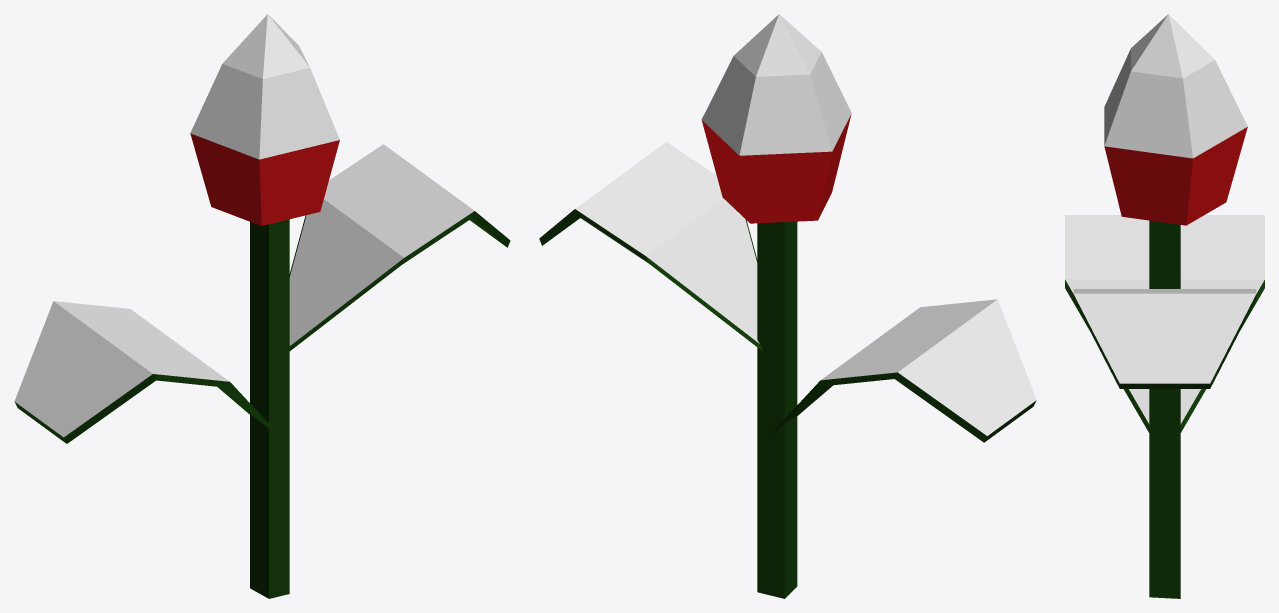
Rendered from Flower_3_Snow.fbx.
The picture shows the model from 3 angles, left to right: view 1: azimuth 30°, elevation 25°; view 2: azimuth 150°, elevation 25°; view 3: azimuth 270°, elevation 25°; orthographic projection.
Visible parts, largest first — view 1: Flower_3_Snow; view 2: Flower_3_Snow; view 3: Flower_3_Snow.
Part boxes in pixels (<box>): Flower_3_Snow: <box>14,14,510,598</box>; Flower_3_Snow: <box>539,14,1036,598</box>; Flower_3_Snow: <box>1065,14,1264,598</box>.
Bounding box in the file's own units: 61.89 × 75.87 × 23.79.
